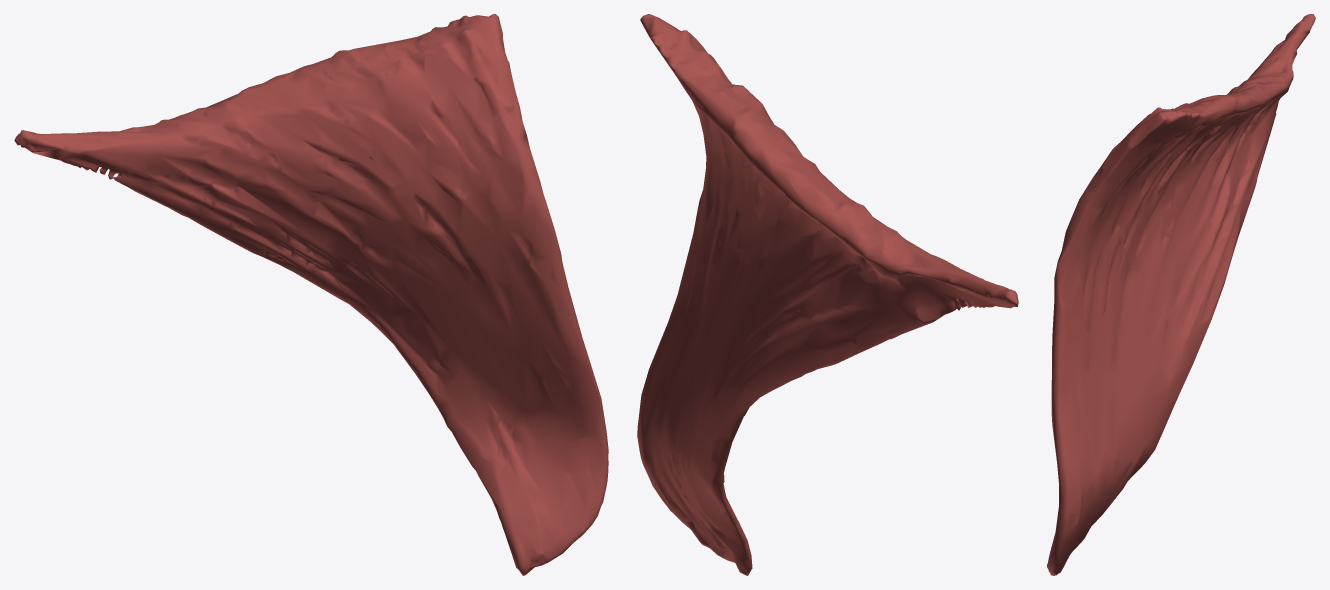
Rendered from FMA46806.glb.
3 renders of one model, left to right at view 1: azimuth 30°, elevation 25°; view 2: azimuth 150°, elevation 25°; view 3: azimuth 270°, elevation 25°, orthographic. The views are drawn at different scales.
Parts seen in each view (by area): view 1: FMA46806; view 2: FMA46806; view 3: FMA46806.
Boxes of the visible parts, x1=… form: FMA46806: x1=14, y1=14, x2=608, y2=575; FMA46806: x1=637, y1=14, x2=1018, y2=575; FMA46806: x1=1047, y1=14, x2=1315, y2=575.
Size of the model in its own units: 0.0262 by 0.028 by 0.0145.
